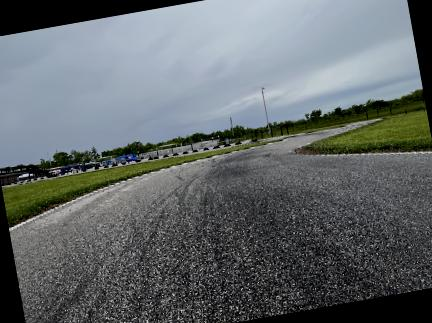Grass: (2, 141, 277, 226), (305, 111, 431, 153)
Lane: (10, 125, 431, 322)
